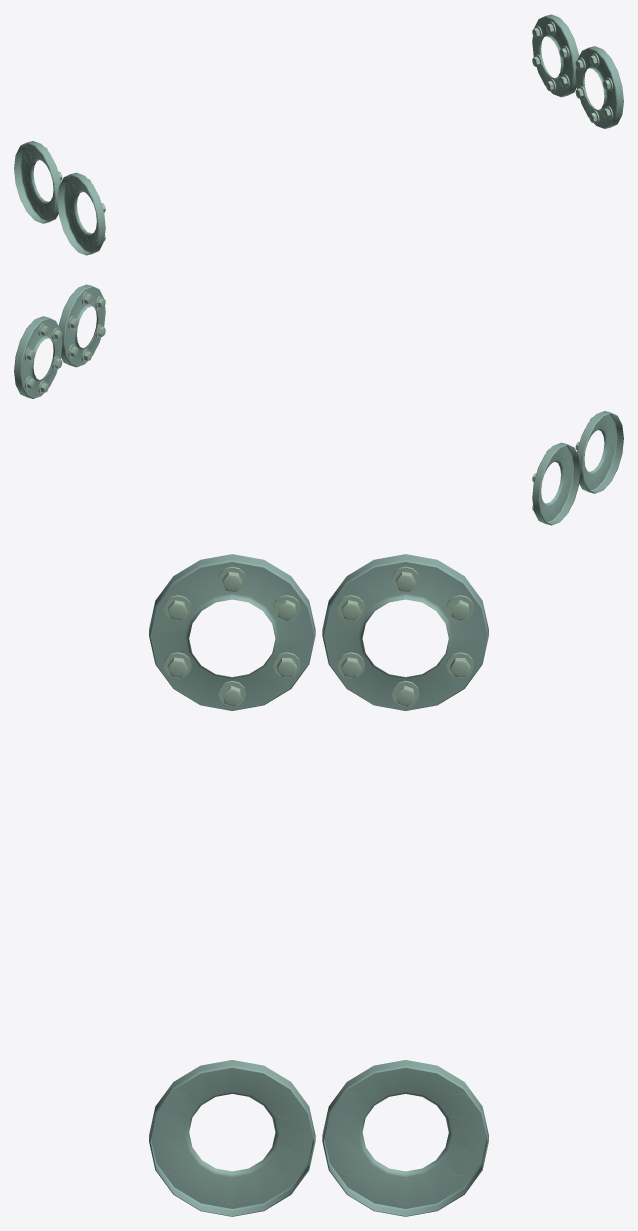
The model's file is PipeComplexLarge_A3_07_End.fbx.
3 views of the same model, one above another, from view 1: azimuth 30°, elevation 25°; view 2: azimuth 150°, elevation 25°; view 3: azimuth 270°, elevation 25° (orthographic). The views are drawn at different scales.
Parts seen in each view (by area): view 1: PipeComplexLarge_A3_07_End.001; view 2: PipeComplexLarge_A3_07_End.001; view 3: PipeComplexLarge_A3_07_End.001.
Boxes of the visible parts, x1,y1,x2,y2 form: PipeComplexLarge_A3_07_End.001: (14, 14, 623, 255); PipeComplexLarge_A3_07_End.001: (14, 284, 623, 525); PipeComplexLarge_A3_07_End.001: (149, 554, 488, 1216).
Size of the model in its own units: 2.8 by 0.3846 by 0.7846.
